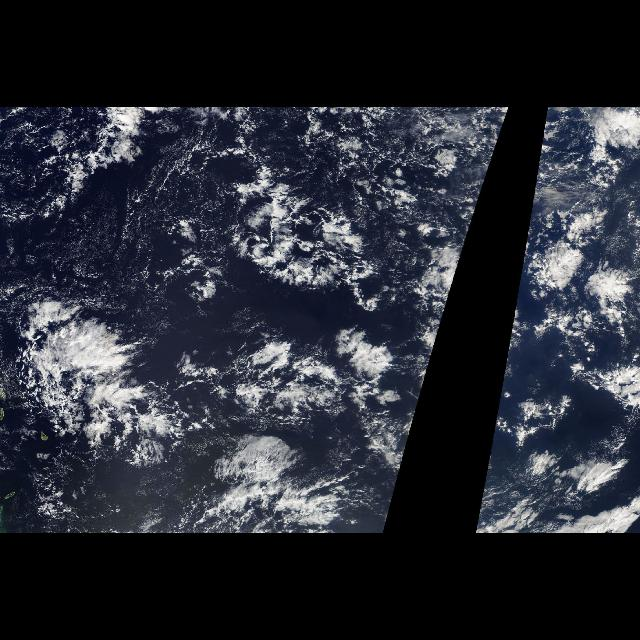Fish: (6, 292, 206, 480), (207, 162, 403, 318)
Flower: (483, 198, 639, 492), (424, 198, 481, 382)
Gravel: (182, 107, 498, 309)
